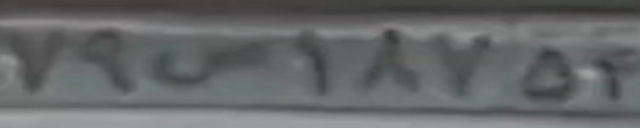1: (294, 27, 338, 97)
4: (586, 46, 639, 103)
5: (518, 45, 579, 102)
7: (3, 28, 72, 95), (431, 30, 497, 98)
8: (359, 27, 420, 91)
9: (80, 26, 140, 94)
saat: (151, 36, 268, 85)
